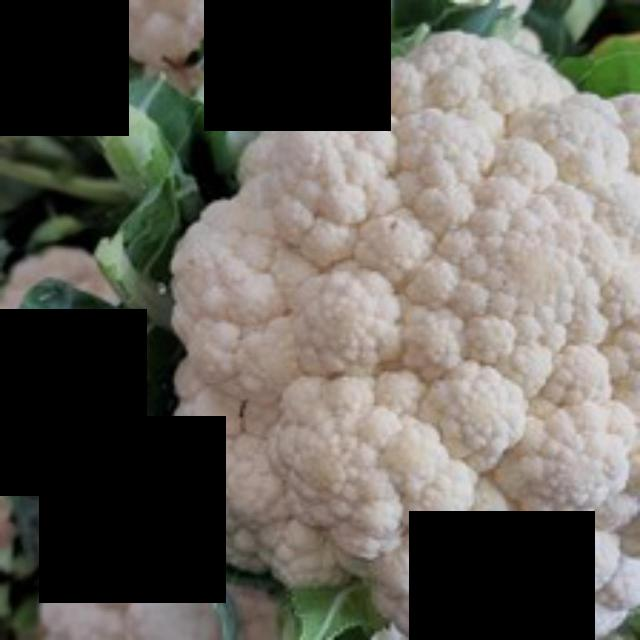cauliflower: (160, 17, 637, 637)
